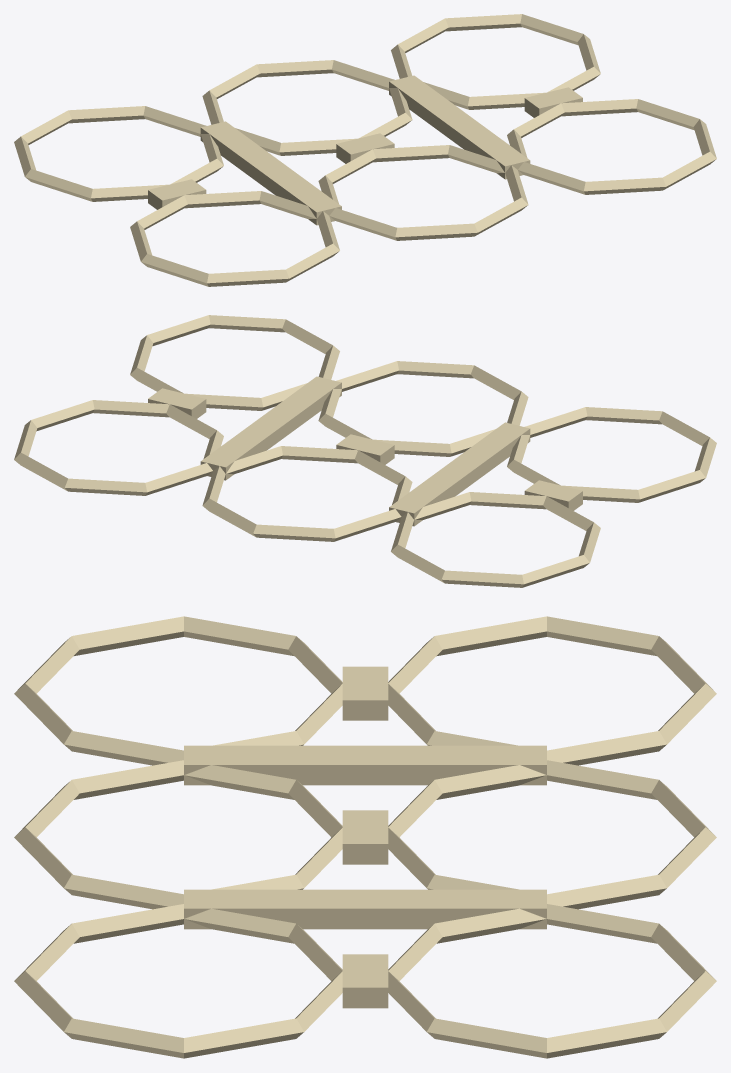
Rendered from b16_discarded_six_pack_rings.glb.
The picture shows the model from 3 angles, top to bottom: view 1: azimuth 30°, elevation 25°; view 2: azimuth 150°, elevation 25°; view 3: azimuth 270°, elevation 25°; orthographic projection. The views are drawn at different scales.
Visible parts, largest first — view 1: b16_discarded_six_pack_rings; view 2: b16_discarded_six_pack_rings; view 3: b16_discarded_six_pack_rings.
Boxes of the visible parts, x1,y1,x2,y2 form: b16_discarded_six_pack_rings: [14, 14, 716, 286]; b16_discarded_six_pack_rings: [14, 315, 716, 587]; b16_discarded_six_pack_rings: [14, 616, 716, 1058].
Bounding box in the file's own units: 0.18 × 0.004 × 0.124.
